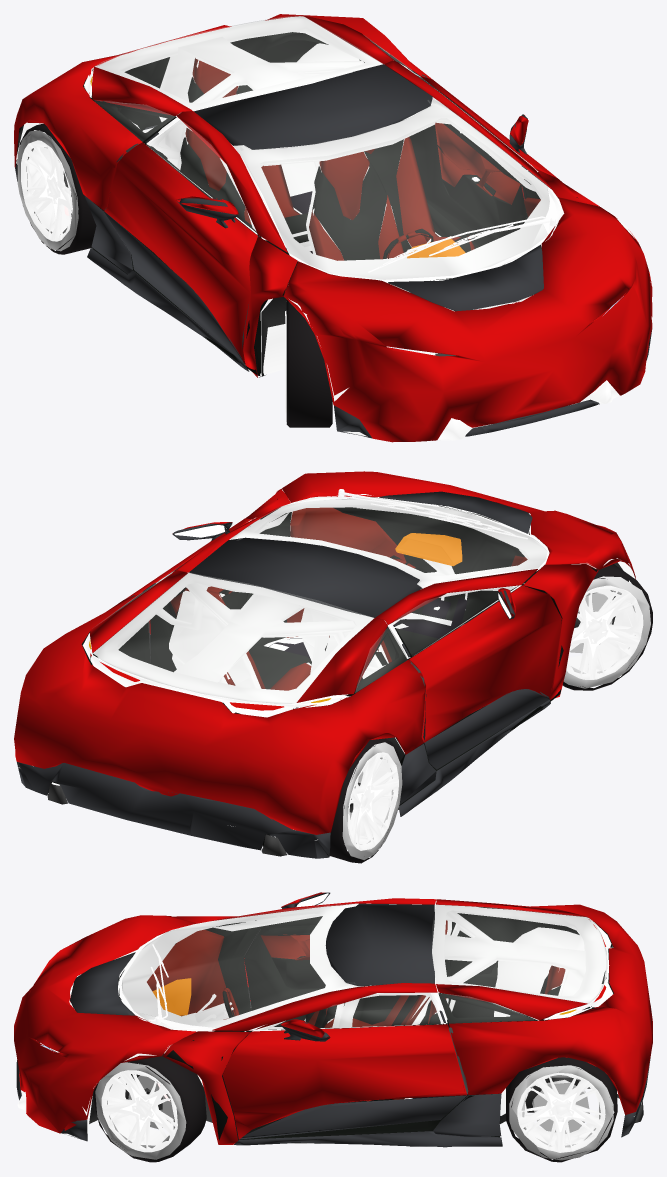
File: car.glb
The picture shows the model from 3 angles, top to bottom: view 1: azimuth 30°, elevation 25°; view 2: azimuth 150°, elevation 25°; view 3: azimuth 270°, elevation 25°; orthographic projection. The views are drawn at different scales.
Parts seen in each view (by area): view 1: BodyRearPanelsColor1, BodyWindshield, BodyWindshieldGasket, BodyRoofPanel, InteriorDashSides, InteriorDashMid, InteriorSeatsColor2, object 21, WheelFrontLRim, InteriorMid, BodyUnderside, InteriorSteeringDash; view 2: BodyRearPanelsColor1, BodyWindshield, BodyRoofPanel, BodyWindshieldGasket, InteriorDashMid, WheelFrontLRim, object 21, InteriorDashSides, InteriorSeatsColor2, InteriorFloormats, InteriorSteeringDash, BodyUnderside (+1 smaller); view 3: BodyRearPanelsColor1, BodyWindshield, BodyWindshieldGasket, BodyRoofPanel, object 21, WheelFrontLRim, InteriorDashMid, InteriorDashSides, InteriorMid, WheelFrontLBrakeDisc, BodyUnderside, InteriorSeatsColor2 (+1 smaller).
Part boxes in pixels (left/top/right/bottom): BodyRearPanelsColor1: left=14, top=14, right=652, bottom=442; BodyWindshield: left=94, top=16, right=549, bottom=279; BodyWindshieldGasket: left=16, top=16, right=652, bottom=440; BodyRoofPanel: left=15, top=64, right=652, bottom=438; InteriorDashSides: left=185, top=58, right=540, bottom=260; InteriorDashMid: left=15, top=32, right=527, bottom=285; InteriorSeatsColor2: left=180, top=77, right=471, bottom=260; object 21: left=17, top=123, right=332, bottom=427; WheelFrontLRim: left=21, top=140, right=332, bottom=414; InteriorMid: left=92, top=171, right=577, bottom=375; BodyUnderside: left=18, top=74, right=536, bottom=377; InteriorSteeringDash: left=407, top=239, right=465, bottom=258; BodyRearPanelsColor1: left=14, top=471, right=635, bottom=834; BodyWindshield: left=93, top=497, right=546, bottom=703; BodyRoofPanel: left=17, top=491, right=550, bottom=858; BodyWindshieldGasket: left=18, top=481, right=636, bottom=840; InteriorDashMid: left=48, top=505, right=524, bottom=846; WheelFrontLRim: left=347, top=585, right=643, bottom=850; object 21: left=329, top=564, right=652, bottom=863; InteriorDashSides: left=170, top=507, right=541, bottom=690; InteriorSeatsColor2: left=176, top=608, right=437, bottom=689; InteriorFloormats: left=268, top=598, right=467, bottom=708; InteriorSteeringDash: left=395, top=533, right=462, bottom=566; BodyUnderside: left=47, top=531, right=628, bottom=856; BodyRearPanelsColor1: left=14, top=892, right=652, bottom=1144; BodyWindshield: left=122, top=903, right=606, bottom=1030; BodyWindshieldGasket: left=17, top=901, right=642, bottom=1143; BodyRoofPanel: left=16, top=892, right=652, bottom=1147; object 21: left=93, top=1053, right=617, bottom=1162; WheelFrontLRim: left=101, top=1063, right=605, bottom=1152; InteriorDashMid: left=118, top=906, right=613, bottom=1031; InteriorDashSides: left=147, top=920, right=565, bottom=1105; InteriorMid: left=166, top=922, right=499, bottom=1143; WheelFrontLBrakeDisc: left=128, top=1075, right=589, bottom=1133; BodyUnderside: left=37, top=929, right=643, bottom=1123; InteriorSeatsColor2: left=304, top=974, right=561, bottom=1102.
Bounding box in the file's own units: 2.54 × 1.15 × 4.35.
23 materials, 12 textured.
